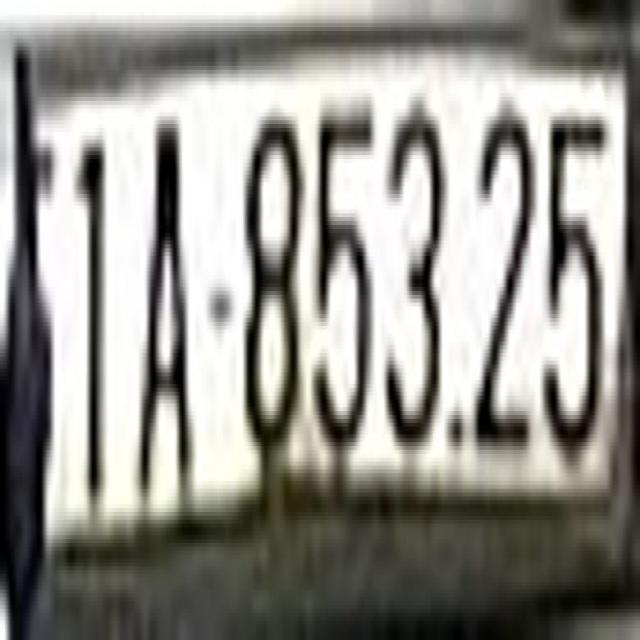1: (73, 163, 108, 500)
2: (478, 89, 536, 454)
3: (386, 101, 440, 434)
5: (545, 105, 608, 454), (320, 124, 373, 458)
8: (248, 144, 304, 430)
A: (140, 124, 190, 489)
